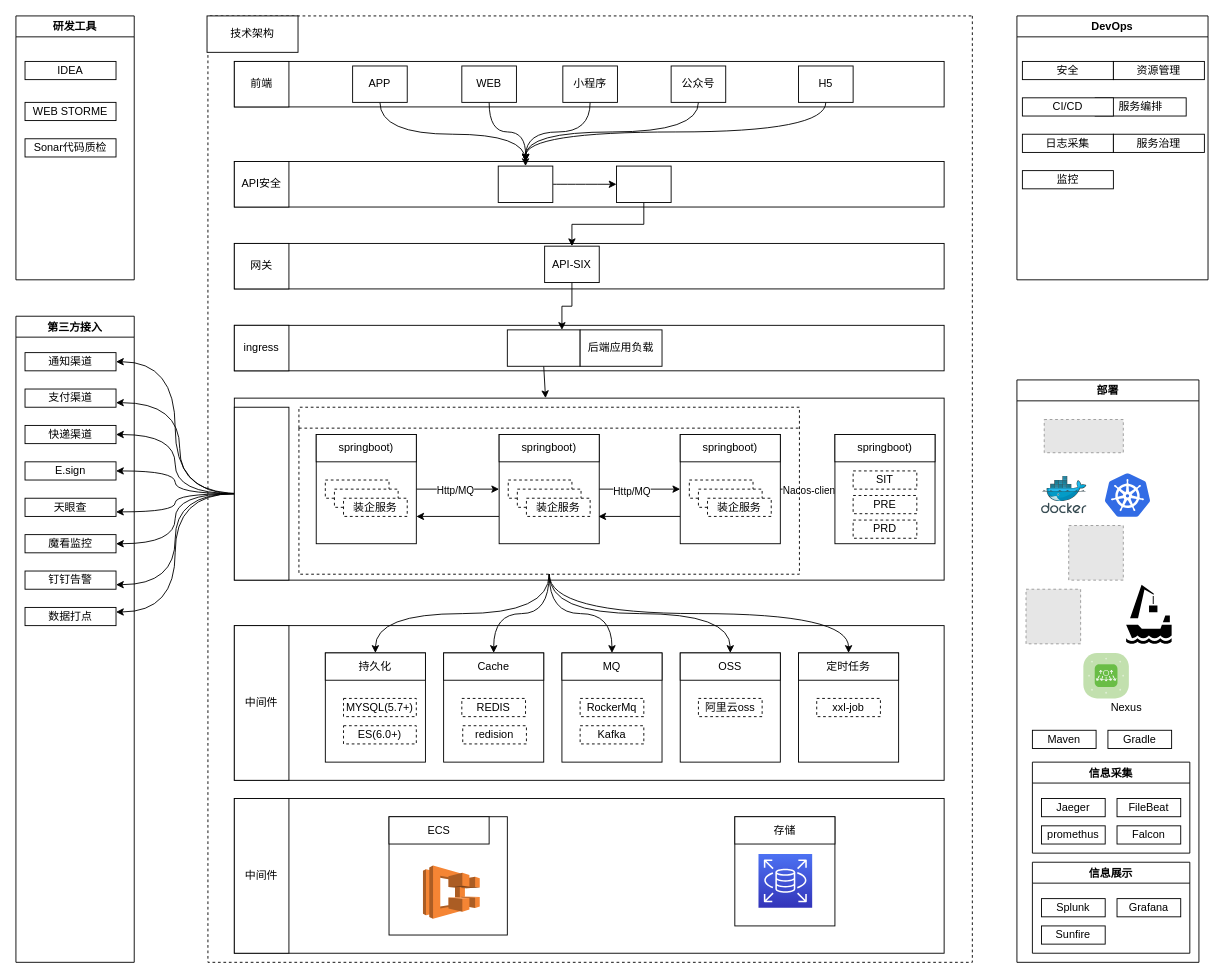
This 1224x978 diagram has some shape labels left out. Grey dashed boxes stand in for pictures. Each missing label, with the centre of its shape:
"Ingress-GW" goes at point 543,347.
"SLB" goes at point 643,183.
"WAF" goes at point 525,183.
"业务应用" goes at point 548,490.
"业务服务" goes at point 261,493.
